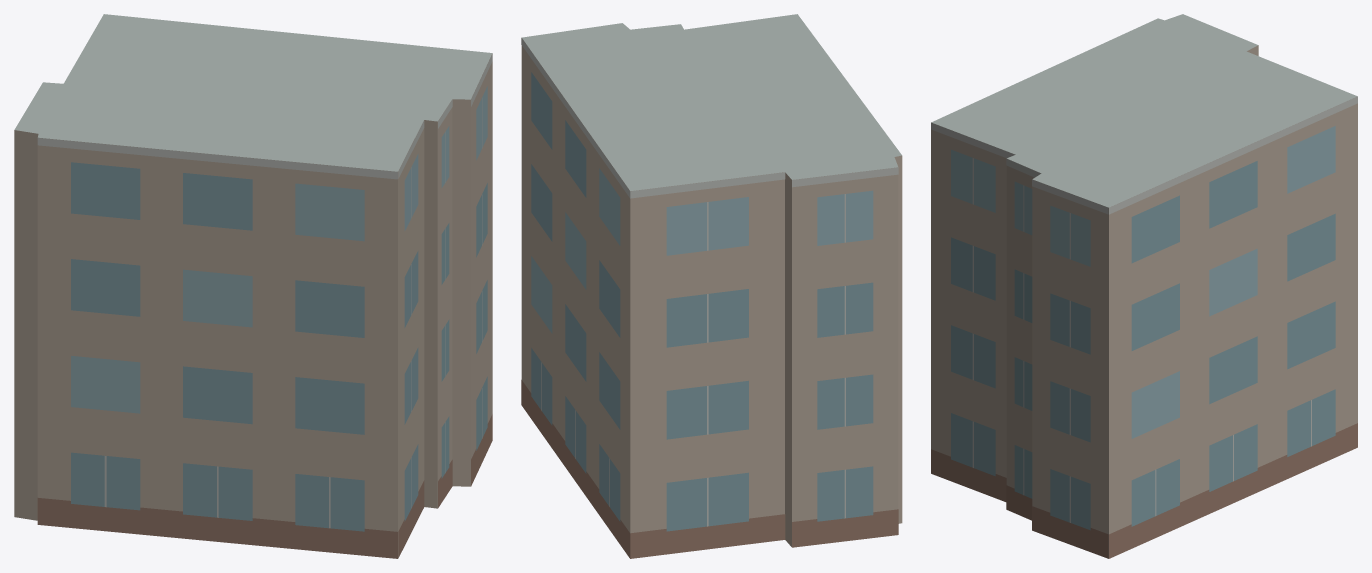
The model's file is survey-upis-32881961.glb.
3 views of the same model, side by side, from view 1: azimuth 30°, elevation 25°; view 2: azimuth 150°, elevation 25°; view 3: azimuth 270°, elevation 25° (orthographic). The views are drawn at different scales.
Parts seen in each view (by area): view 1: survey-upis-32881961.tmp; view 2: survey-upis-32881961.tmp; view 3: survey-upis-32881961.tmp.
Boxes of the visible parts, x1,y1,x2,y2 form: survey-upis-32881961.tmp: (14,14,492,558); survey-upis-32881961.tmp: (521,14,902,558); survey-upis-32881961.tmp: (931,14,1357,558).
Bounding box in the file's own units: 14.44 × 12.2 × 13.44.
